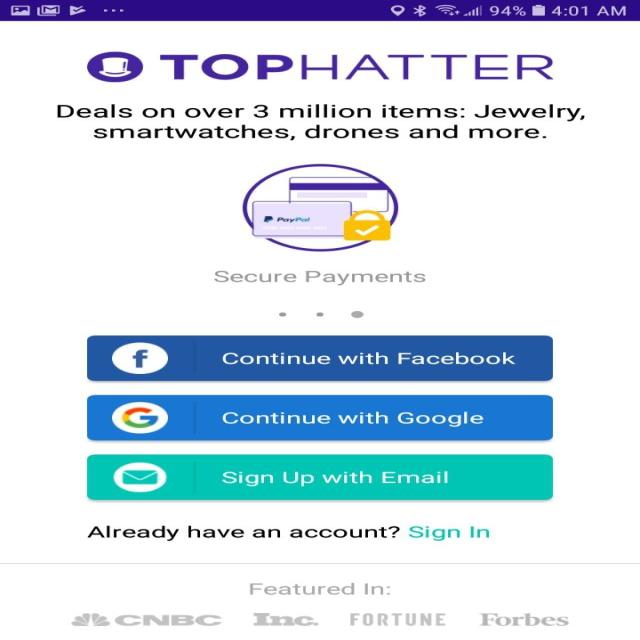Image: (242, 163, 398, 252), (86, 52, 143, 82), (70, 612, 110, 626)
Text: (56, 104, 585, 141), (159, 53, 554, 80), (86, 525, 489, 541), (213, 270, 426, 286), (248, 582, 390, 595), (350, 612, 446, 626), (114, 614, 222, 626), (477, 612, 569, 626), (252, 612, 318, 626)
TextButton: (86, 335, 553, 381), (86, 394, 553, 440), (86, 454, 553, 500)
